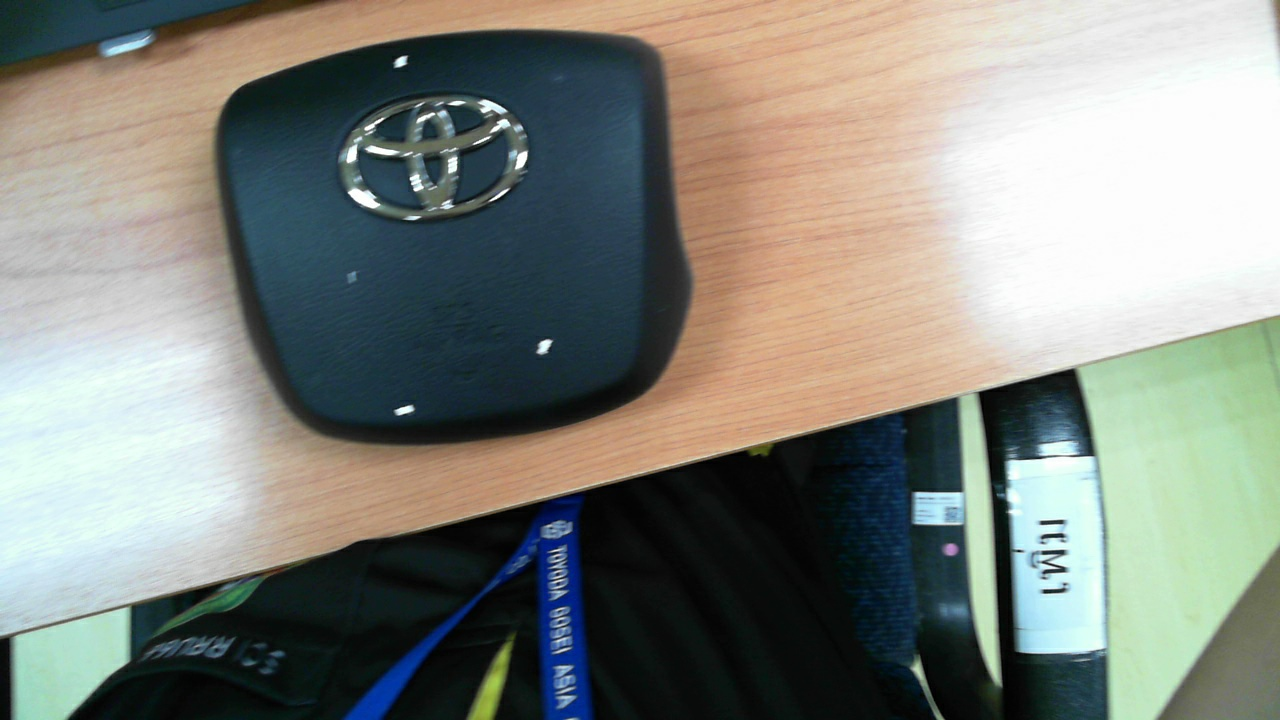Airbag: (218, 28, 692, 444)
Mark: (393, 404, 416, 417), (535, 339, 553, 355), (393, 55, 408, 69), (347, 271, 357, 284)
